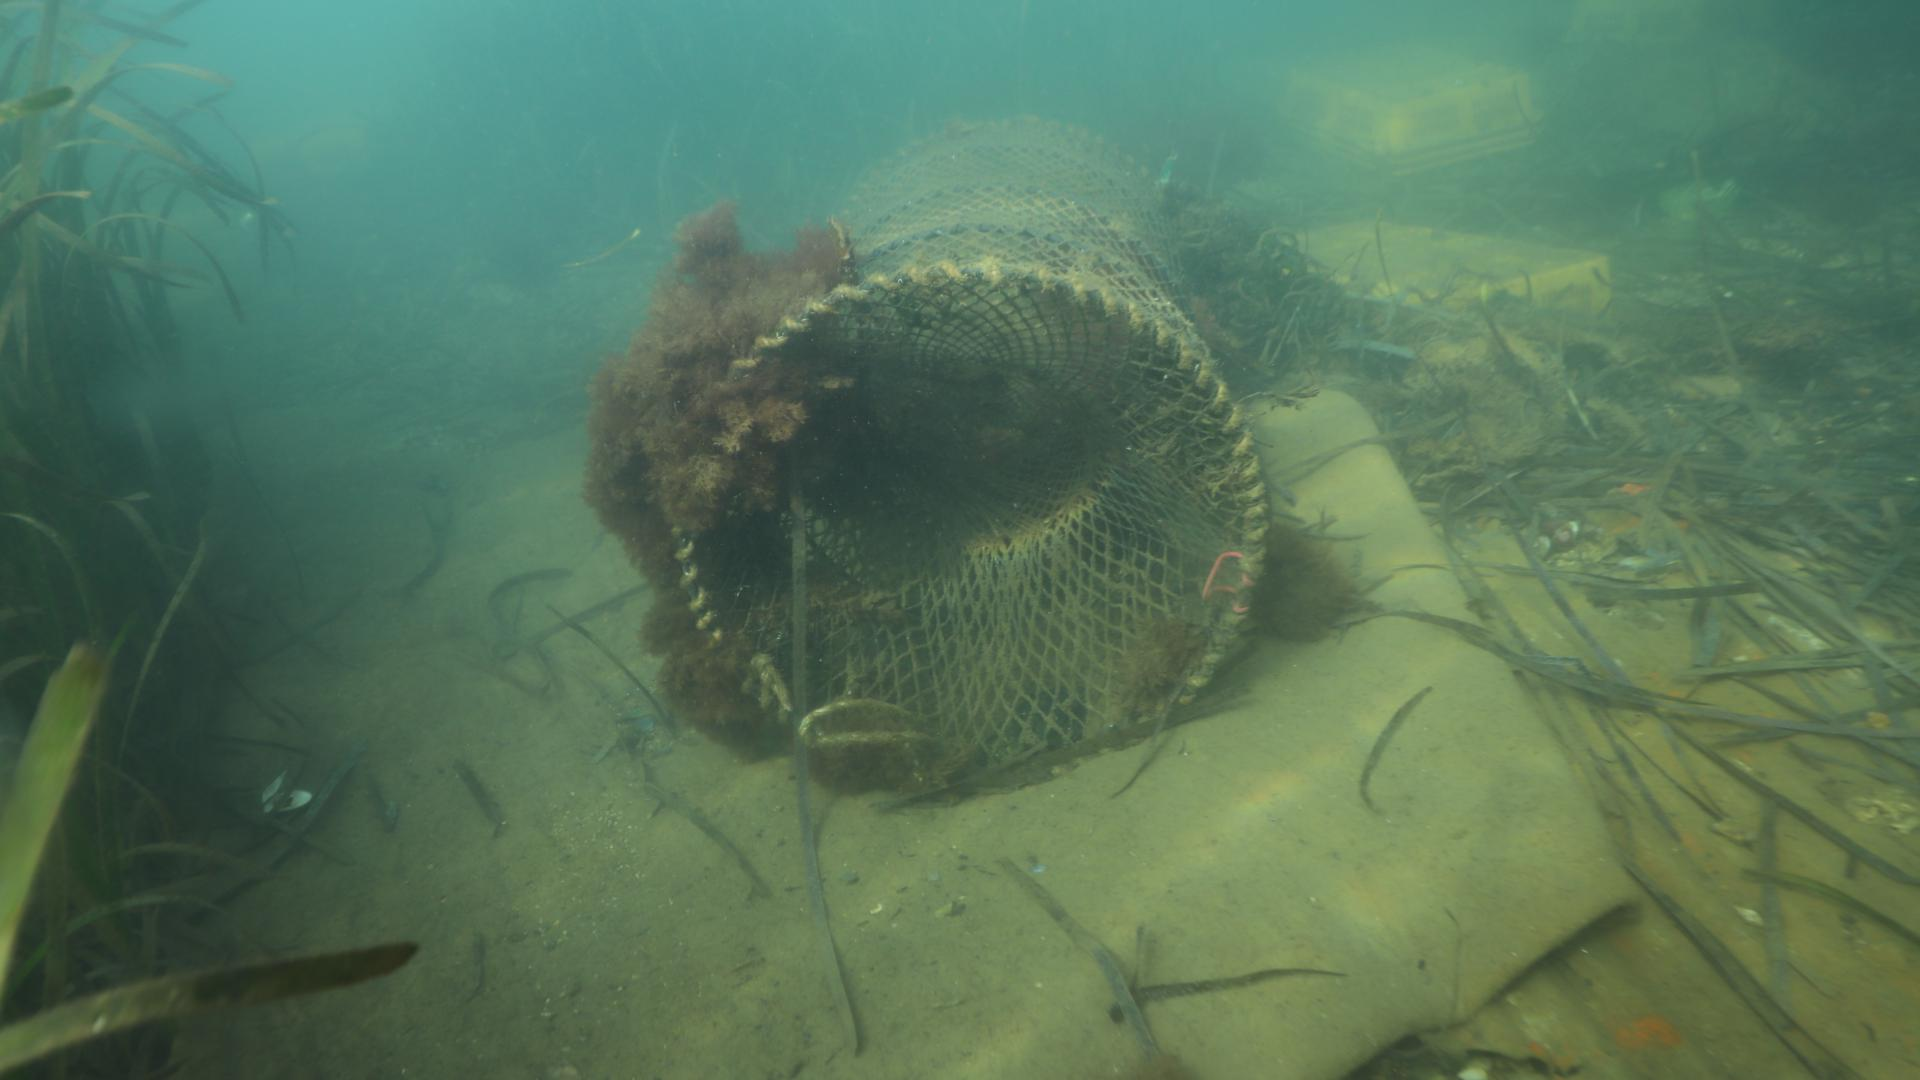spring fish trap: (669, 113, 1270, 794)
